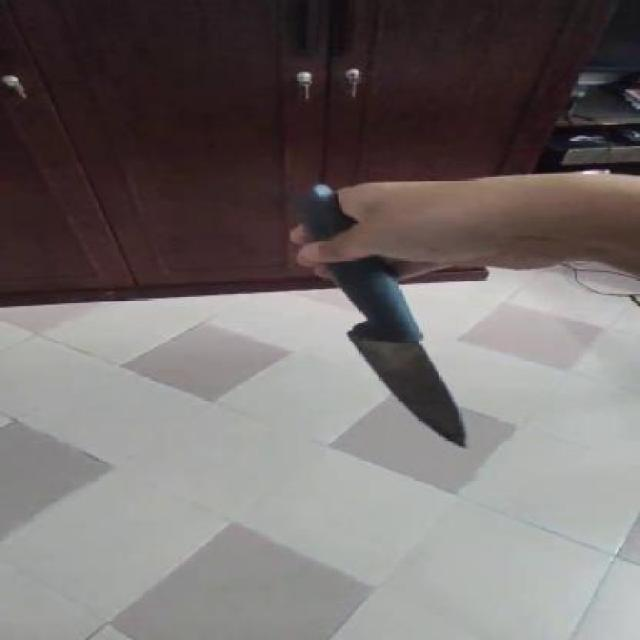knife: (306, 288, 477, 449)
